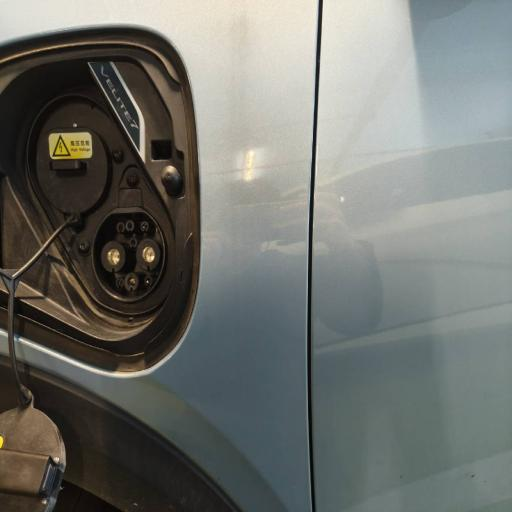DC_charging_port: (90, 205, 166, 304)
DC_hole: (100, 238, 126, 272), (135, 237, 160, 271)
PE: (125, 272, 139, 294)
